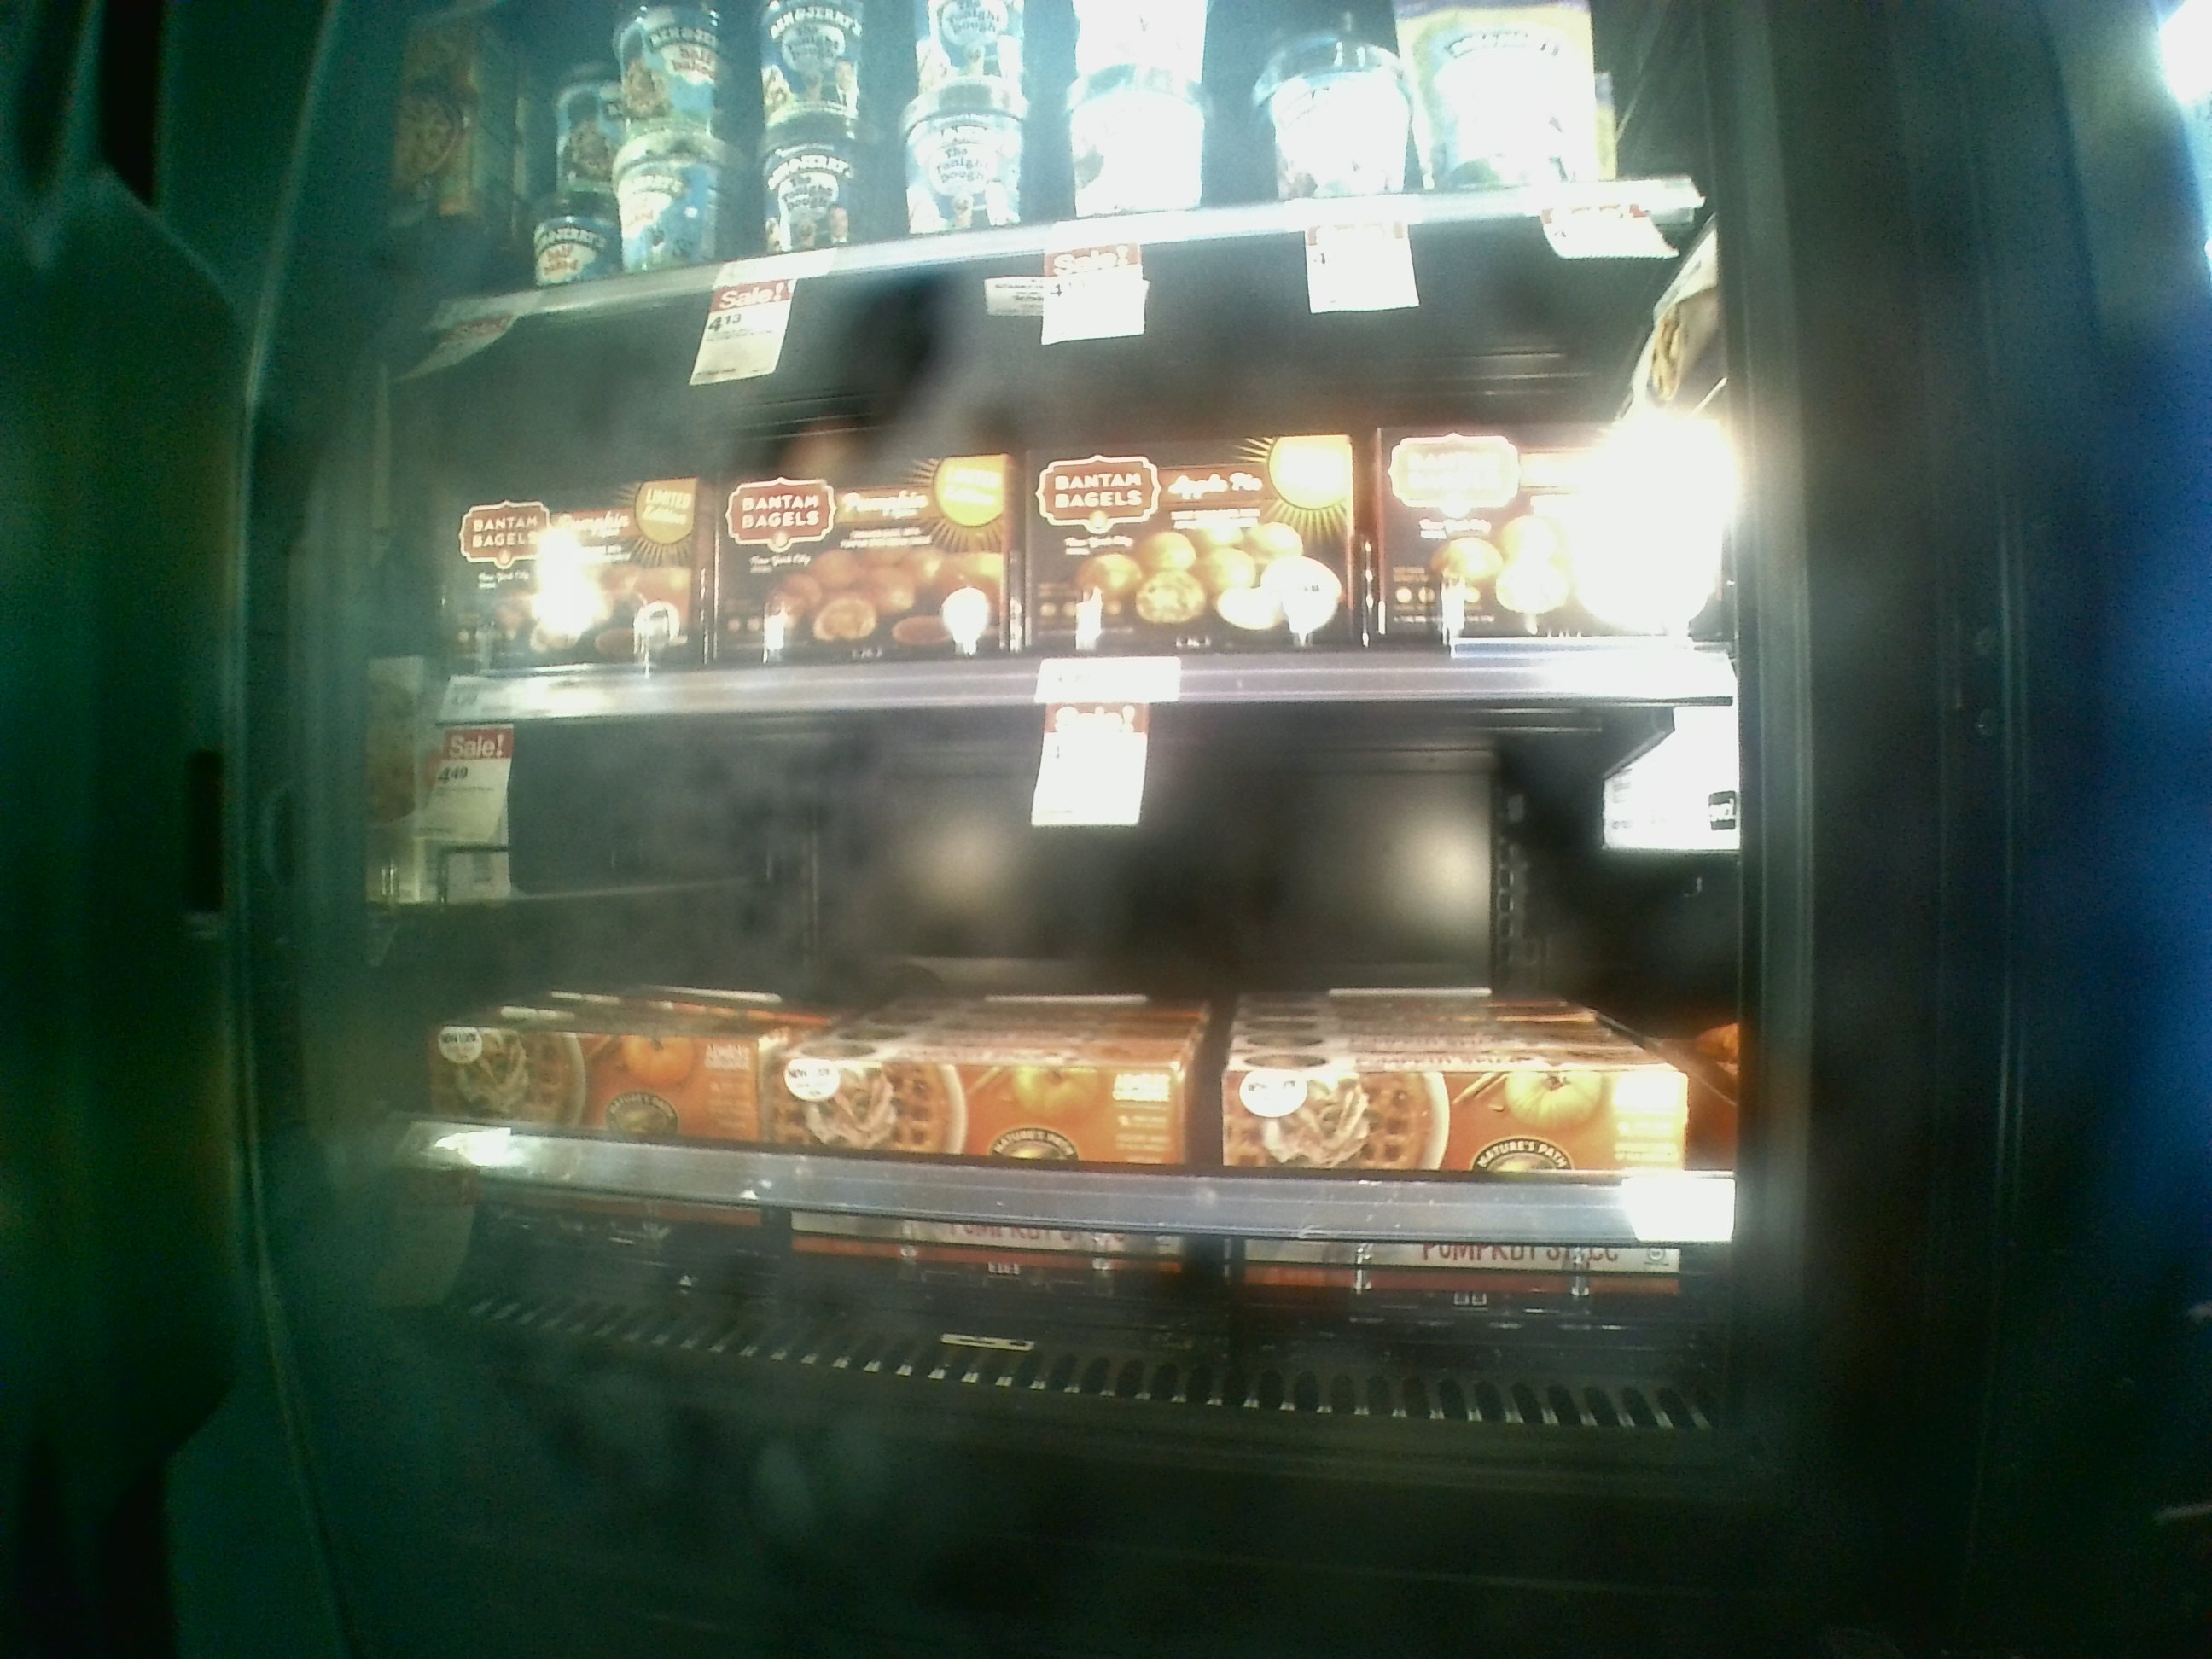shelf: (388, 690, 1749, 1464), (380, 289, 1735, 708)
